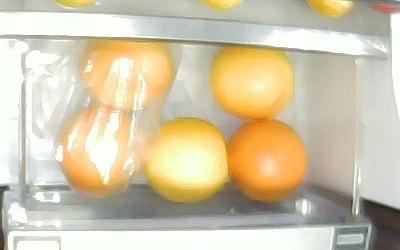grapefruit: (145, 115, 228, 201), (227, 119, 306, 202), (207, 45, 294, 120)
grapefruit_vinyl: (61, 107, 146, 195), (78, 40, 173, 111)
